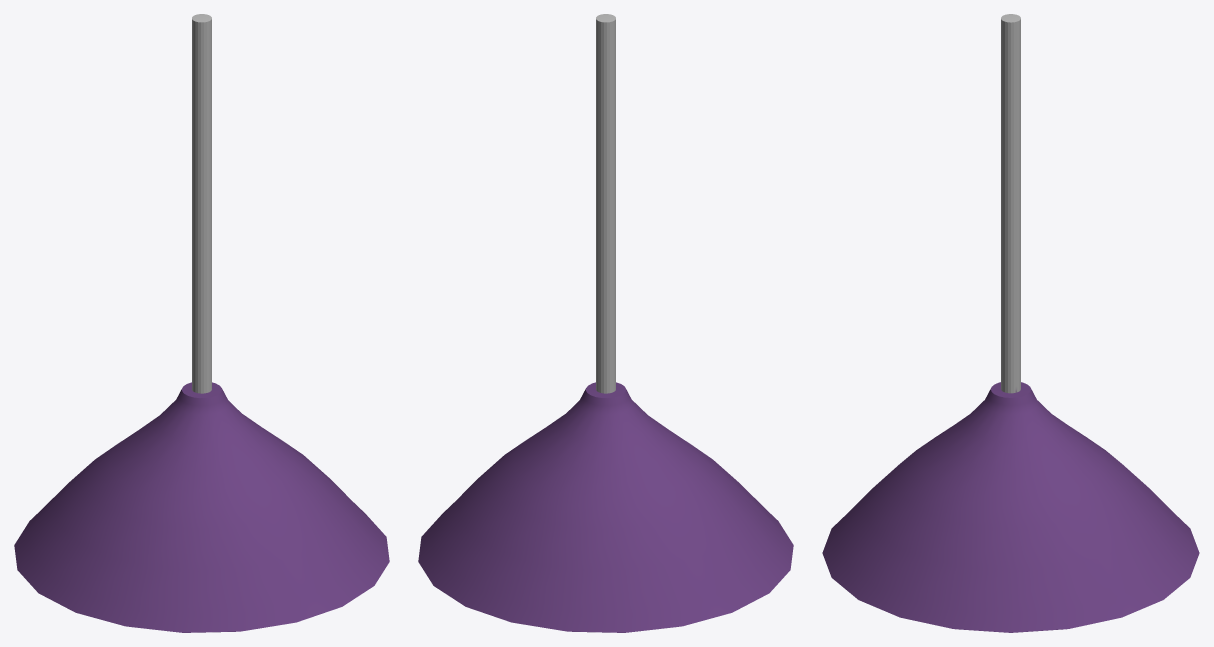
File: light.fbx
The picture shows the model from 3 angles, left to right: view 1: azimuth 30°, elevation 25°; view 2: azimuth 150°, elevation 25°; view 3: azimuth 270°, elevation 25°; orthographic projection.
Parts seen in each view (by area): view 1: pPlane12.003; view 2: pPlane12.003; view 3: pPlane12.003.
Part boxes in pixels (x1,y1,x2,y2): pPlane12.003: [14, 14, 389, 632]; pPlane12.003: [418, 14, 793, 632]; pPlane12.003: [822, 14, 1199, 632].
Size of the model in its own units: 49.75 by 78.52 by 49.75.
Materials: 1 (1 with a texture image).
